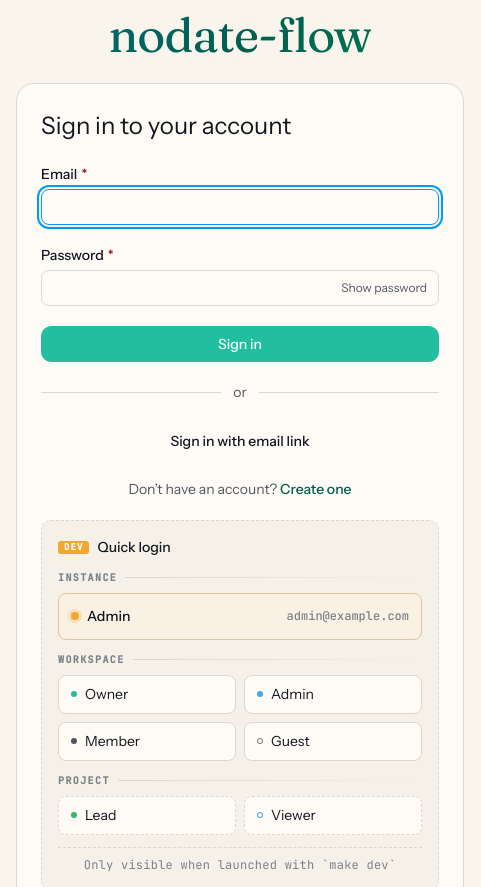
Test: login recovery code field › renders helper text, enforces maxLength=20, and wires aria-describedby
The width and height of the screenshot is (481, 887).
Type "user@example.test" into the field labelled "Email*" at (240, 207), box x1=41 y1=189 x2=439 y2=225
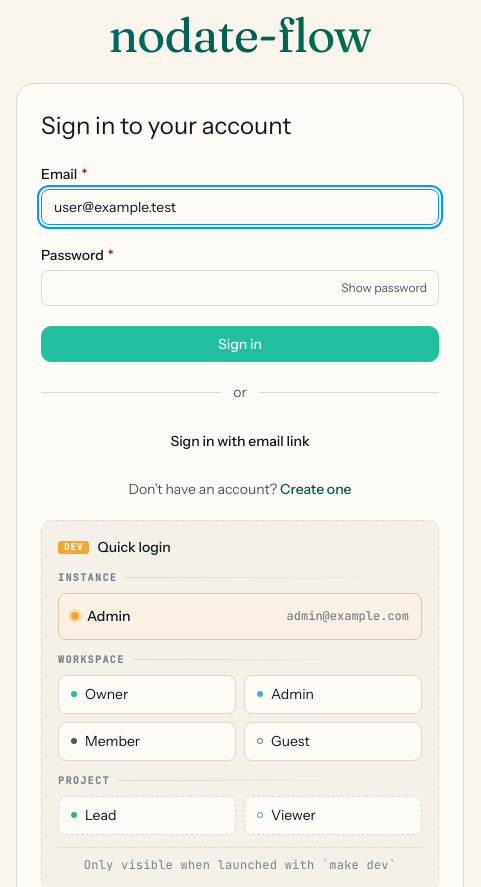
Type "pw-strong-1" into the password field labelled "Password*" at (240, 288), box x1=41 y1=270 x2=439 y2=306
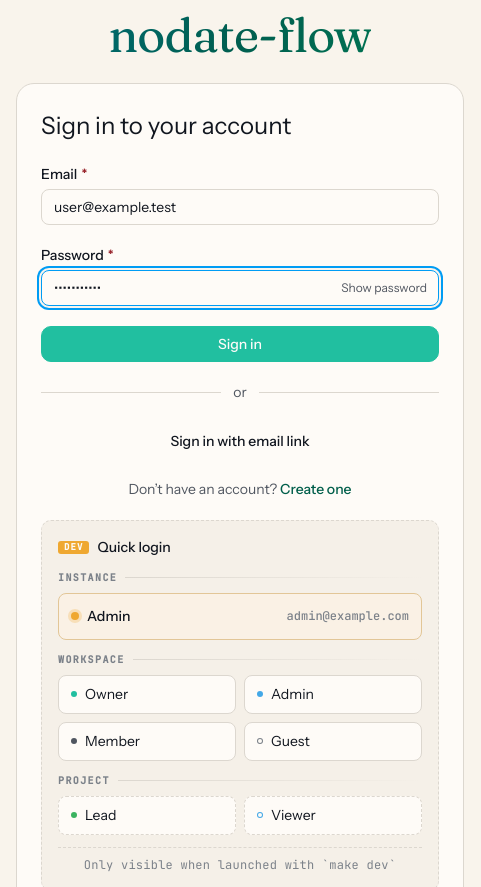
Click the button "Sign in" at (240, 344), box x1=41 y1=326 x2=439 y2=362
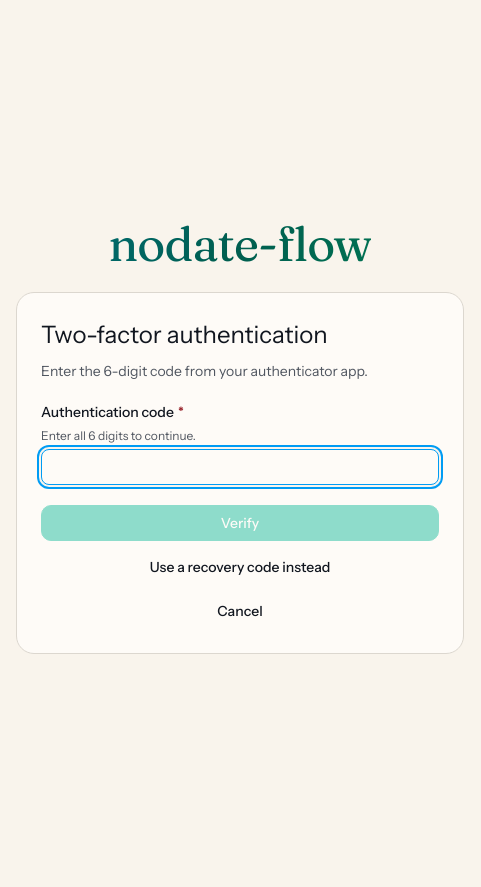
Check: the heading "Two-factor authentication" is shown, box x1=41 y1=320 x2=328 y2=349
Click the button "Use a recovery code instead" at (240, 567), box x1=41 y1=549 x2=439 y2=585
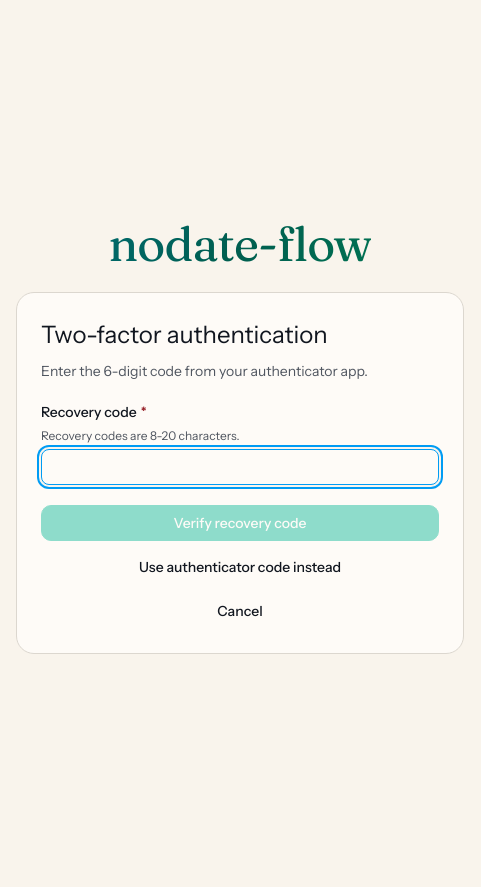
Check: the text "Recovery codes are 8-20 characters." is shown, box x1=41 y1=428 x2=240 y2=443
